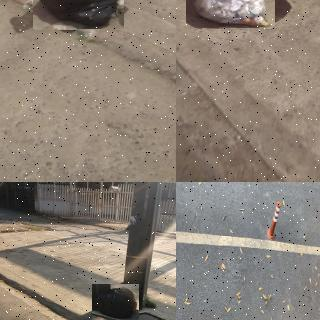Garbage: (32, 0, 124, 29), (185, 0, 275, 29), (92, 284, 139, 320)
